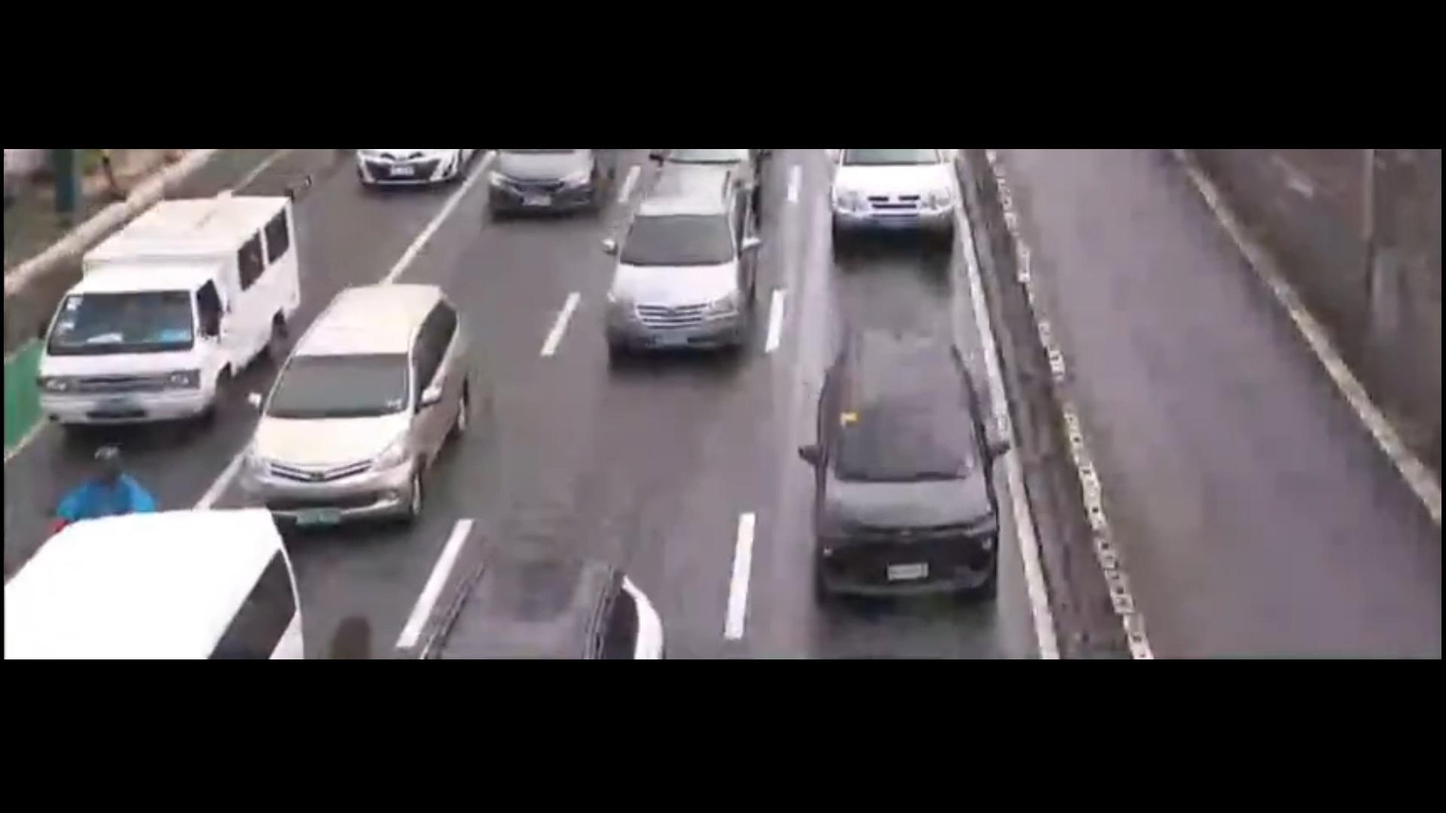Multicab: (0, 179, 337, 444)
SUV: (774, 307, 1023, 615), (233, 283, 497, 539), (598, 162, 784, 361)
